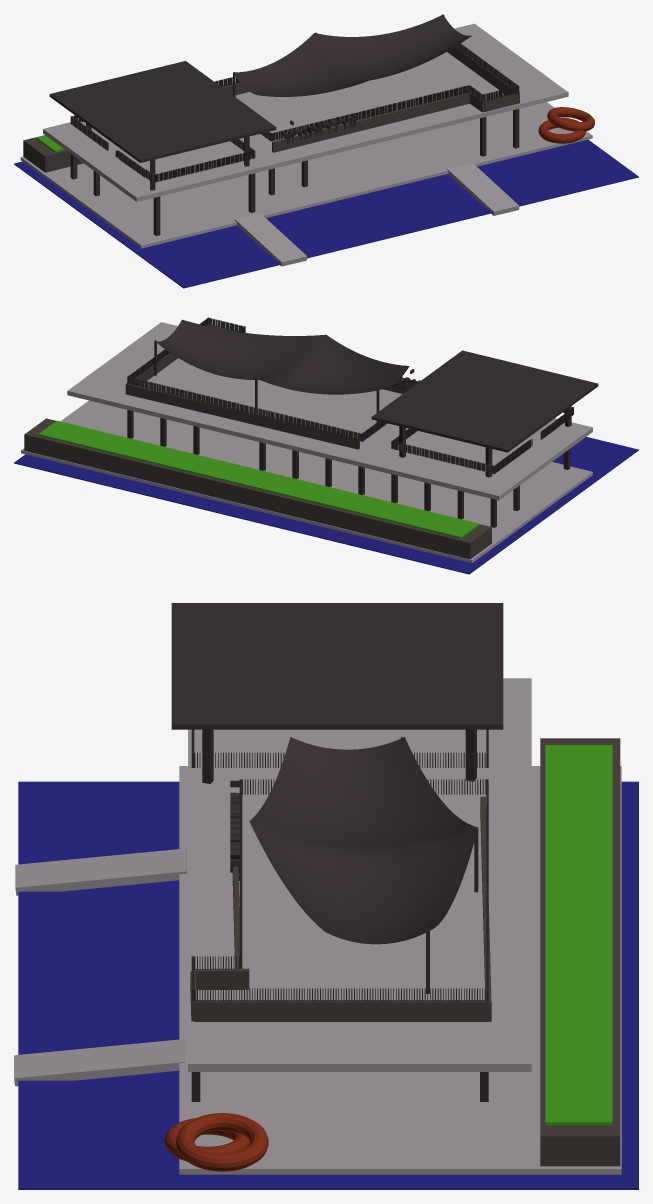
Rendered from thamaharat.glb.
The picture shows the model from 3 angles, top to bottom: view 1: azimuth 30°, elevation 25°; view 2: azimuth 150°, elevation 25°; view 3: azimuth 270°, elevation 25°; orthographic projection. The views are drawn at different scales.
Parts seen in each view (by area): view 1: Cube, Cube.005, Cube.002, Cube.004, Mesh1513, Cube.010, Cube.001, Cube.003, Cube.006, Torus.001, Mesh1569, Cube.008 (+2 smaller); view 2: Cube.002, Cube, Cube.004, Mesh1513, Cube.006, Cube.005, Cube.007, Cube.009, Cube.008; view 3: Cube.002, Cube.005, Cube.004, Cube, Mesh1513, Cube.007, Cube.006, Cube.008, Cube.001, Cube.003, Torus.001, Cube.009 (+3 smaller).
Boxes of the visible parts, box(x1,y1,x2,y2) form: Cube: box(20, 102, 592, 248); Cube.005: box(14, 139, 638, 288); Cube.002: box(43, 23, 568, 201); Cube.004: box(49, 61, 276, 162); Mesh1513: box(234, 15, 472, 96); Cube.010: box(272, 93, 469, 152); Cube.001: box(235, 213, 307, 266); Cube.003: box(447, 162, 519, 215); Cube.006: box(23, 135, 83, 172); Torus.001: box(547, 107, 594, 131); Mesh1569: box(282, 114, 356, 143); Cube.008: box(447, 47, 519, 94); Cube.002: box(67, 322, 592, 500); Cube: box(21, 400, 592, 563); Cube.004: box(371, 350, 598, 452); Mesh1513: box(156, 319, 409, 394); Cube.006: box(24, 418, 491, 559); Cube.005: box(14, 437, 638, 574); Cube.007: box(38, 420, 479, 538); Cube.009: box(125, 383, 359, 449); Cube.008: box(127, 325, 208, 385); Cube.002: box(188, 678, 531, 1071); Cube.005: box(18, 781, 638, 1189); Cube.004: box(171, 603, 503, 729); Cube: box(179, 766, 621, 1174); Mesh1513: box(249, 737, 477, 944); Cube.007: box(545, 745, 612, 1125); Cube.006: box(540, 738, 620, 1166); Cube.008: box(194, 1000, 487, 1021); Cube.001: box(15, 848, 186, 895); Cube.003: box(14, 1039, 185, 1086); Torus.001: box(176, 1113, 268, 1171); Cube.009: box(480, 796, 491, 1021).
Bounding box in the file's own units: 5631 × 1197 × 3583.
